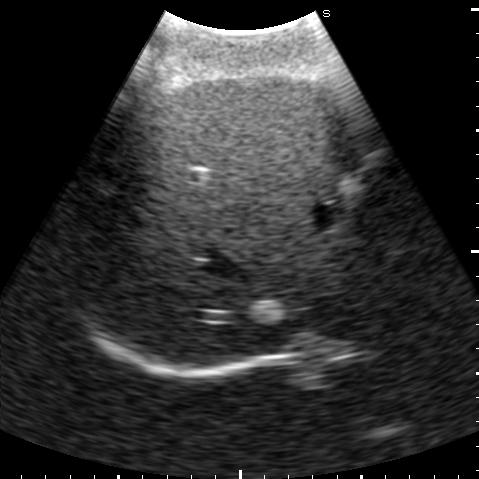S5: (139, 76, 358, 192)
S7: (88, 155, 170, 306)
S8: (122, 192, 376, 367)
Tumor: (247, 299, 284, 326), (337, 174, 364, 197)
